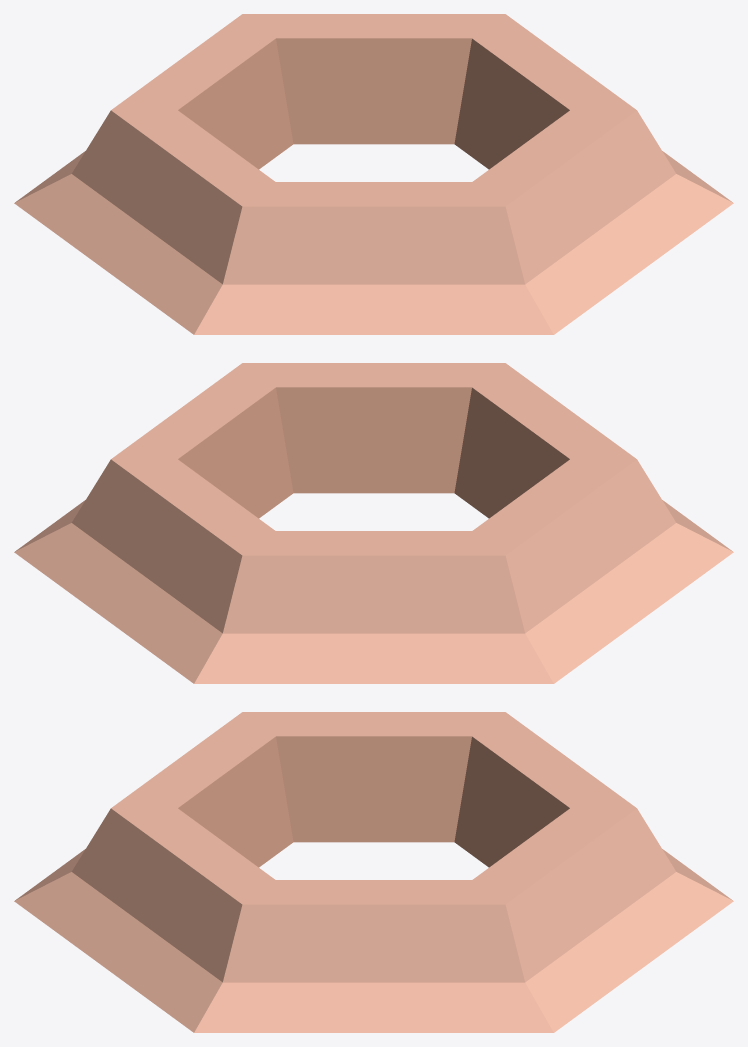
Rendered from crater.glb.
The picture shows the model from 3 angles, top to bottom: view 1: azimuth 30°, elevation 25°; view 2: azimuth 150°, elevation 25°; view 3: azimuth 270°, elevation 25°; orthographic projection.
Visible parts, largest first — view 1: crater; view 2: crater; view 3: crater.
Boxes of the visible parts, left/top/right/bottom form: crater: left=14, top=14, right=733, bottom=334; crater: left=14, top=363, right=733, bottom=683; crater: left=14, top=712, right=733, bottom=1032.
Size of the model in its own units: 3.92 by 0.6445 by 4.52.
